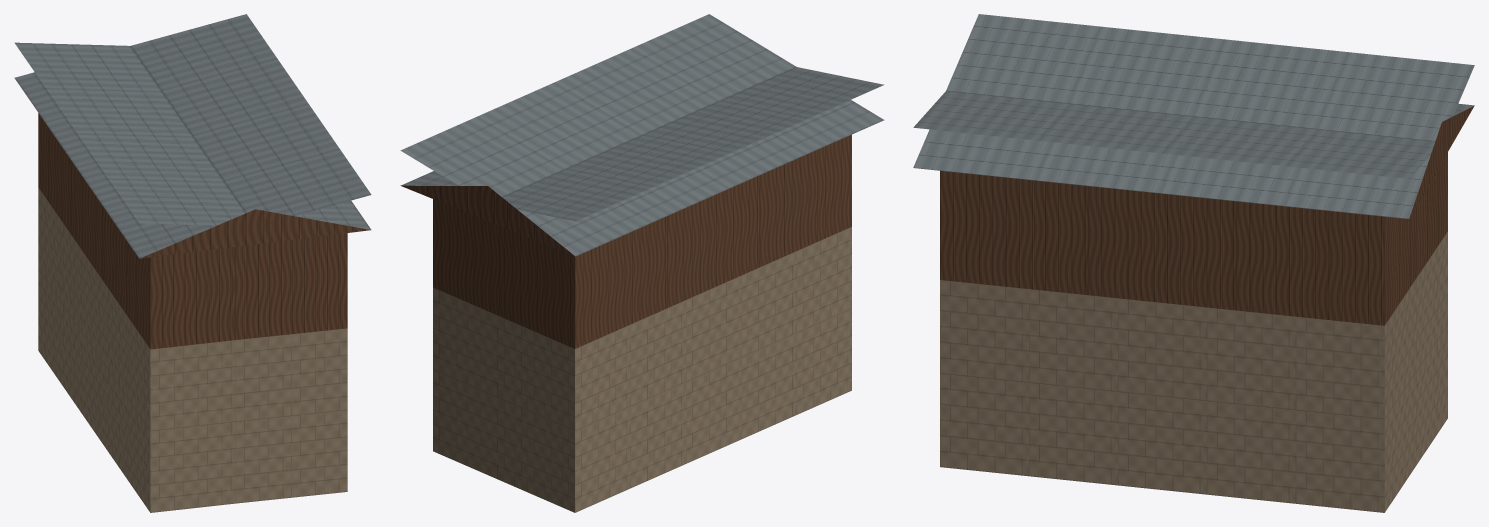
Rendered from bld_c32_46_238.gltf.
3 renders of one model, left to right at view 1: azimuth 30°, elevation 25°; view 2: azimuth 150°, elevation 25°; view 3: azimuth 270°, elevation 25°, orthographic. The views are drawn at different scales.
Visible parts, largest first — view 1: bld_c32_46_238; view 2: bld_c32_46_238; view 3: bld_c32_46_238.
Part boxes in pixels (box(x1,y1,x2,y2)): bld_c32_46_238: box(14, 14, 371, 512); bld_c32_46_238: box(400, 14, 884, 512); bld_c32_46_238: box(913, 14, 1474, 512).
Size of the model in its own units: 8.78 by 8.6 by 12.64.
4 materials, 4 textured.
